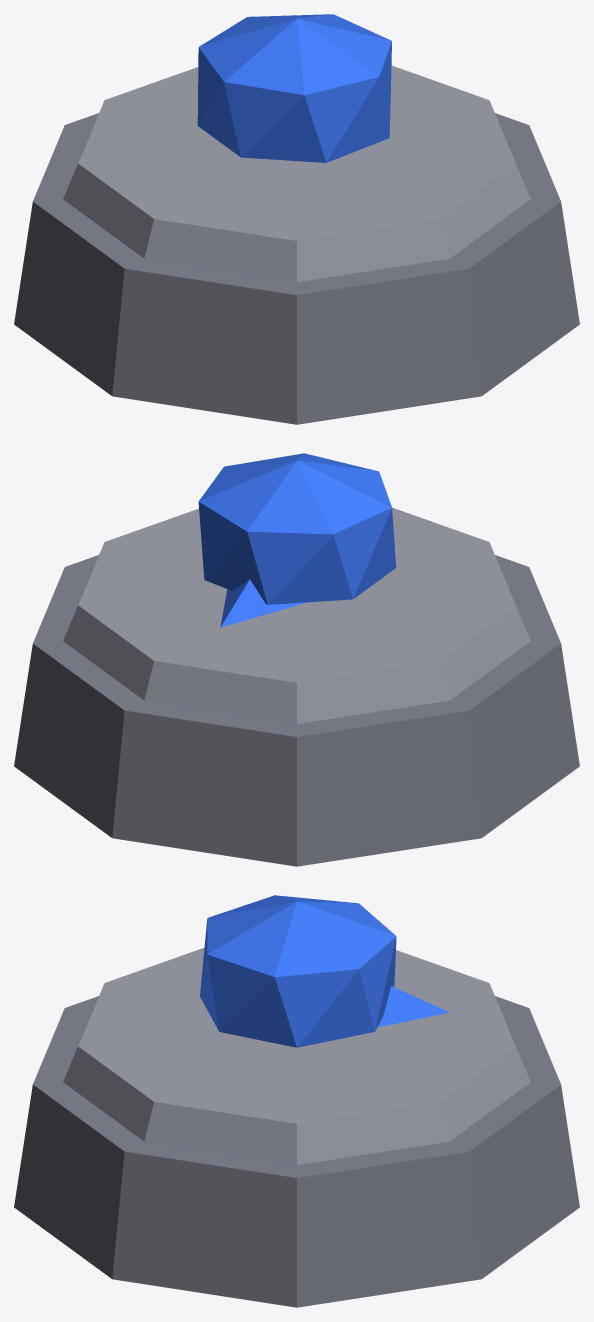
File: drop_rune_water.glb
The picture shows the model from 3 angles, top to bottom: view 1: azimuth 30°, elevation 25°; view 2: azimuth 150°, elevation 25°; view 3: azimuth 270°, elevation 25°; orthographic projection.
Visible parts, largest first — view 1: drop_rune_water; view 2: drop_rune_water; view 3: drop_rune_water.
Part boxes in pixels (<box>): drop_rune_water: <box>14,14,579,424</box>; drop_rune_water: <box>14,453,579,866</box>; drop_rune_water: <box>14,895,579,1307</box>.
Bounding box in the file's own units: 0.1455 × 0.082 × 0.1477.
